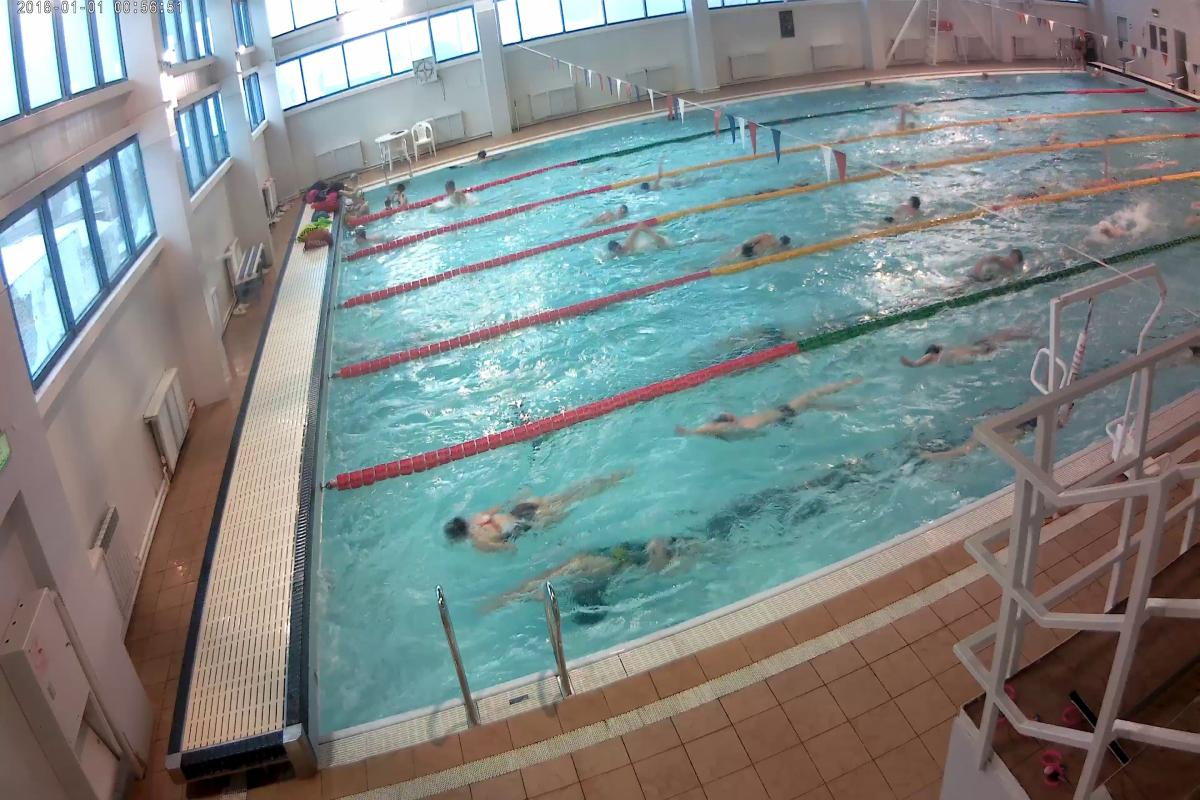swimmer: (436, 470, 592, 556), (672, 380, 846, 443), (530, 531, 673, 592), (897, 322, 1012, 372), (720, 227, 798, 265), (972, 239, 1027, 292), (595, 230, 675, 264), (865, 195, 932, 226), (580, 201, 633, 232), (436, 173, 470, 216), (351, 224, 380, 249), (643, 176, 664, 191)
